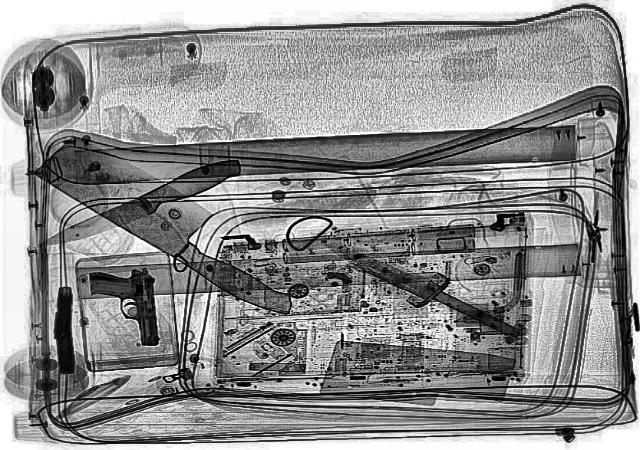Gun: (86, 266, 164, 348), (51, 287, 75, 373)
Knife: (21, 132, 337, 320), (298, 220, 532, 346), (28, 153, 250, 255)
